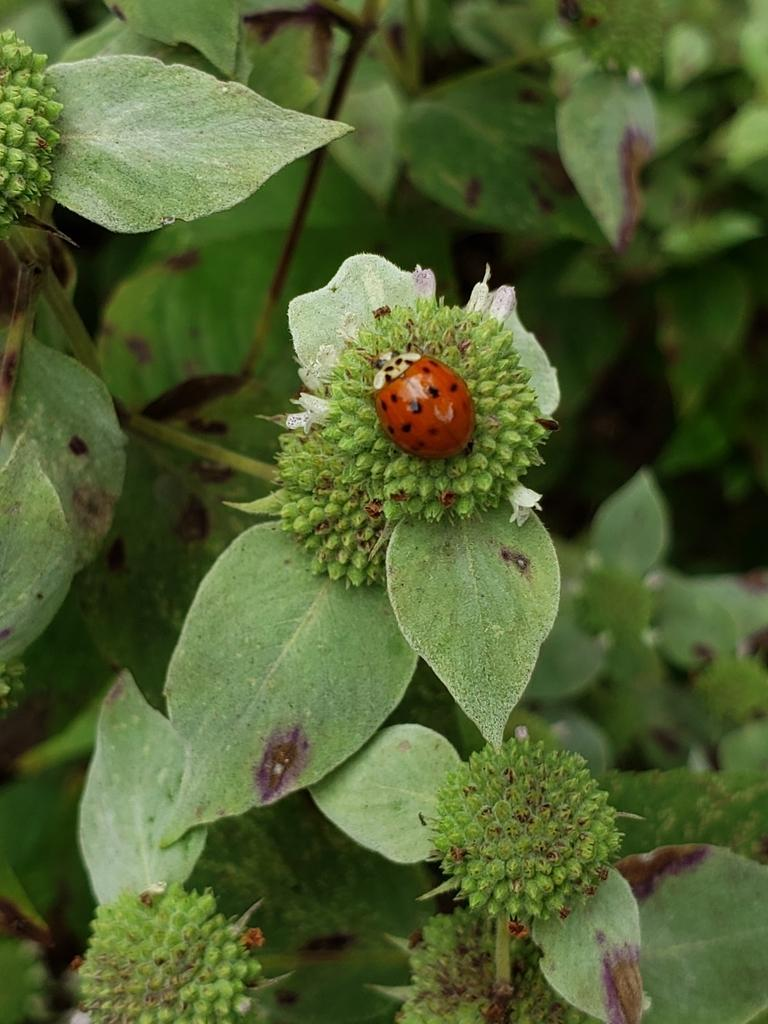ladybug: (366, 346, 481, 464)
